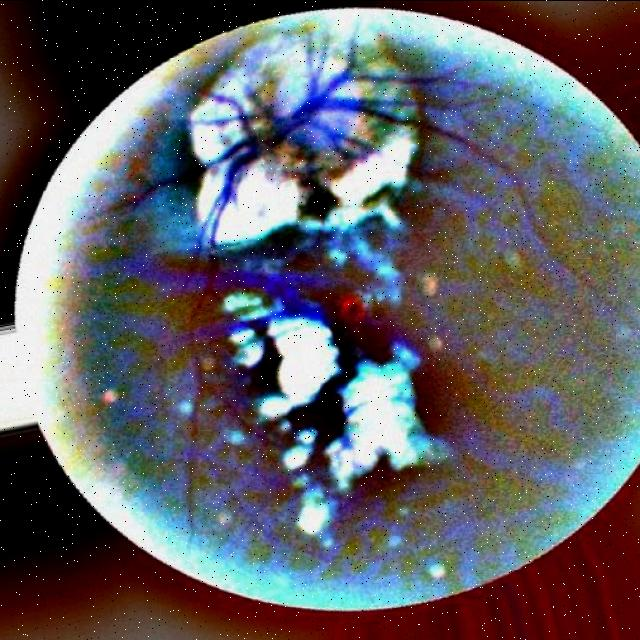Macula: (330, 292, 378, 375)
Nerves: (327, 101, 590, 287), (192, 111, 317, 390), (293, 72, 551, 109)
Optic Disk: (193, 11, 413, 240)
